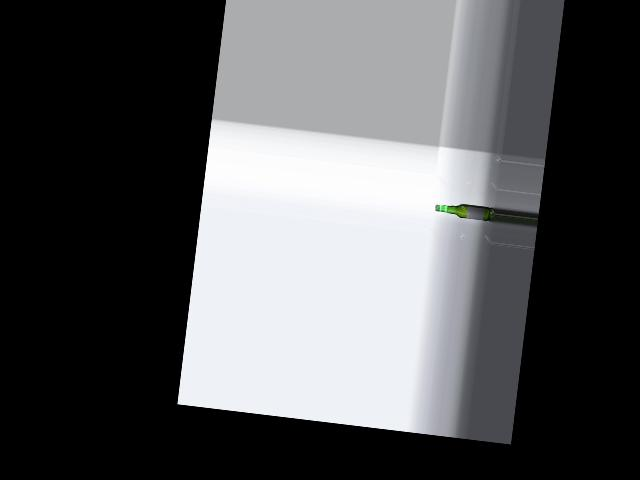beer: (434, 200, 490, 221)
